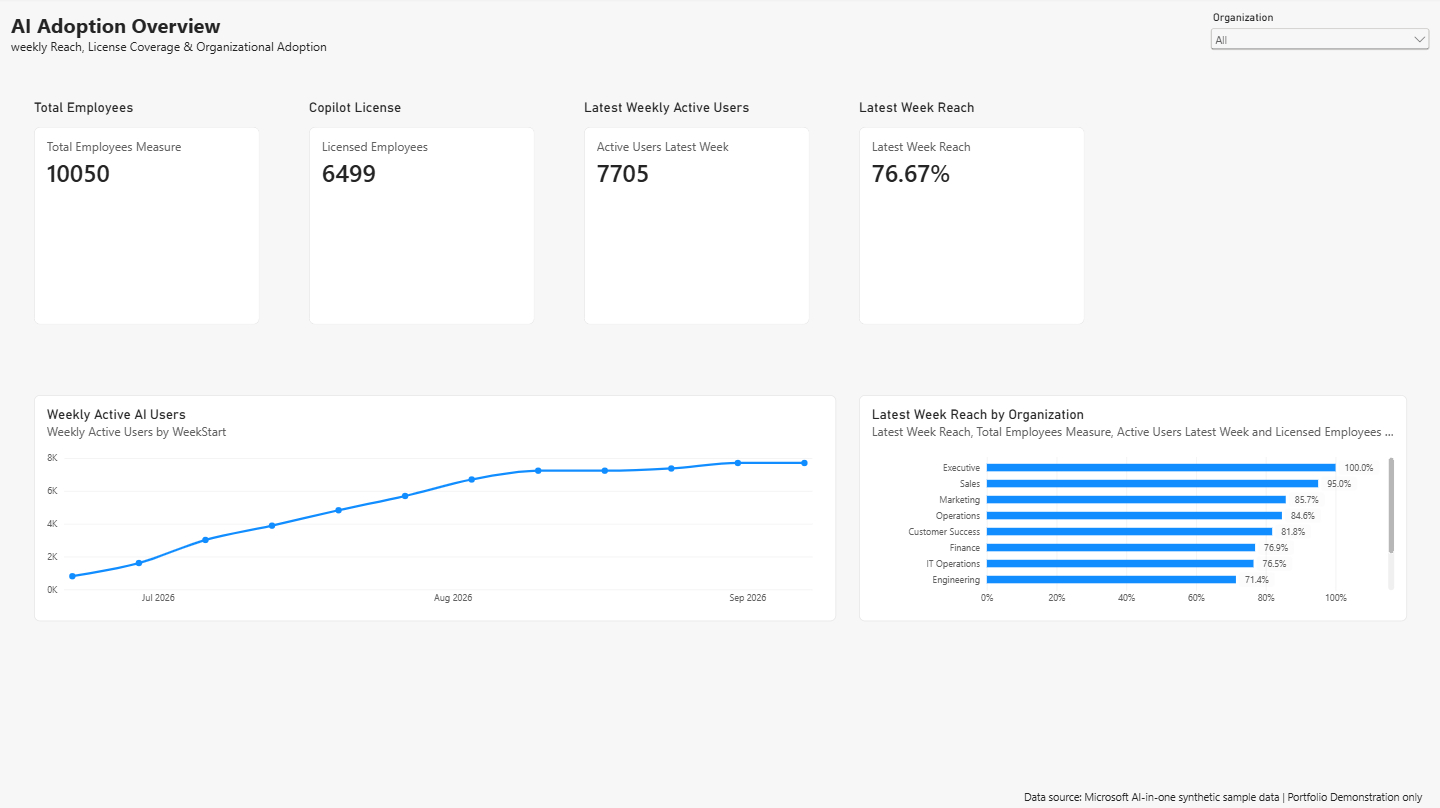

Layout of this report page (visuals, bound fields, positions):
{"tool":"powerbi","page":{"name":"01 Executive Overview","canvas":[1920,1080],"ordinal":0},"visuals":[{"type":"textbox","box":[1366,1054.7,554.6,25.3],"z":0},{"type":"cardVisual","title":"Total Employees","fields":{"Data":["CopilotUsers.Total Employees Measure"]},"box":[49.2,135.7,300,300],"z":1000},{"type":"cardVisual","title":"Copilot License","fields":{"Data":["CopilotUsers.Licensed Employees"]},"box":[415,135.7,300,300],"z":2000},{"type":"cardVisual","title":"Latest Weekly Active Users","fields":{"Data":["DimWeek.Active Users Latest Week"]},"box":[780.7,135.7,300,300],"z":3000},{"type":"cardVisual","title":"Latest Week Reach","fields":{"Data":["DimWeek.Latest Week Reach"]},"box":[1146.5,135.7,300,300],"z":4000},{"type":"textbox","box":[18.6,18.6,429.6,71.8],"z":5000},{"type":"slicer","fields":{"Values":["CopilotUsers.Organization"]},"box":[1609.4,18.6,300.6,71.8],"z":6000},{"type":"lineChart","title":"Weekly Active AI Users","fields":{"Category":["DimWeek.WeekStart"],"Y":["CopilotInteractions.Weekly Active Users"]},"box":[49.2,529.4,1066.7,300.6],"z":7000},{"type":"clusteredBarChart","title":"Latest Week Reach by Organization","fields":{"Category":["CopilotUsers.Organization"],"Y":["DimWeek.Latest Week Reach"]},"box":[1146.5,529.4,728.9,300.6],"z":8000}]}

Visuals, with their boxes in screenshot pixels (x1, y1, x2, y2), scaled from the page's 1920x1080 canvas onto the 1440x808 screenshot:
textbox: (1024,789,1439,807)
"Total Employees" cardVisual: (37,102,262,326)
"Copilot License" cardVisual: (311,102,536,326)
"Latest Weekly Active Users" cardVisual: (586,102,811,326)
"Latest Week Reach" cardVisual: (860,102,1085,326)
textbox: (14,14,336,68)
slicer - CopilotUsers.Organization: (1207,14,1432,68)
"Weekly Active AI Users" lineChart: (37,396,837,621)
"Latest Week Reach by Organization" clusteredBarChart: (860,396,1407,621)
